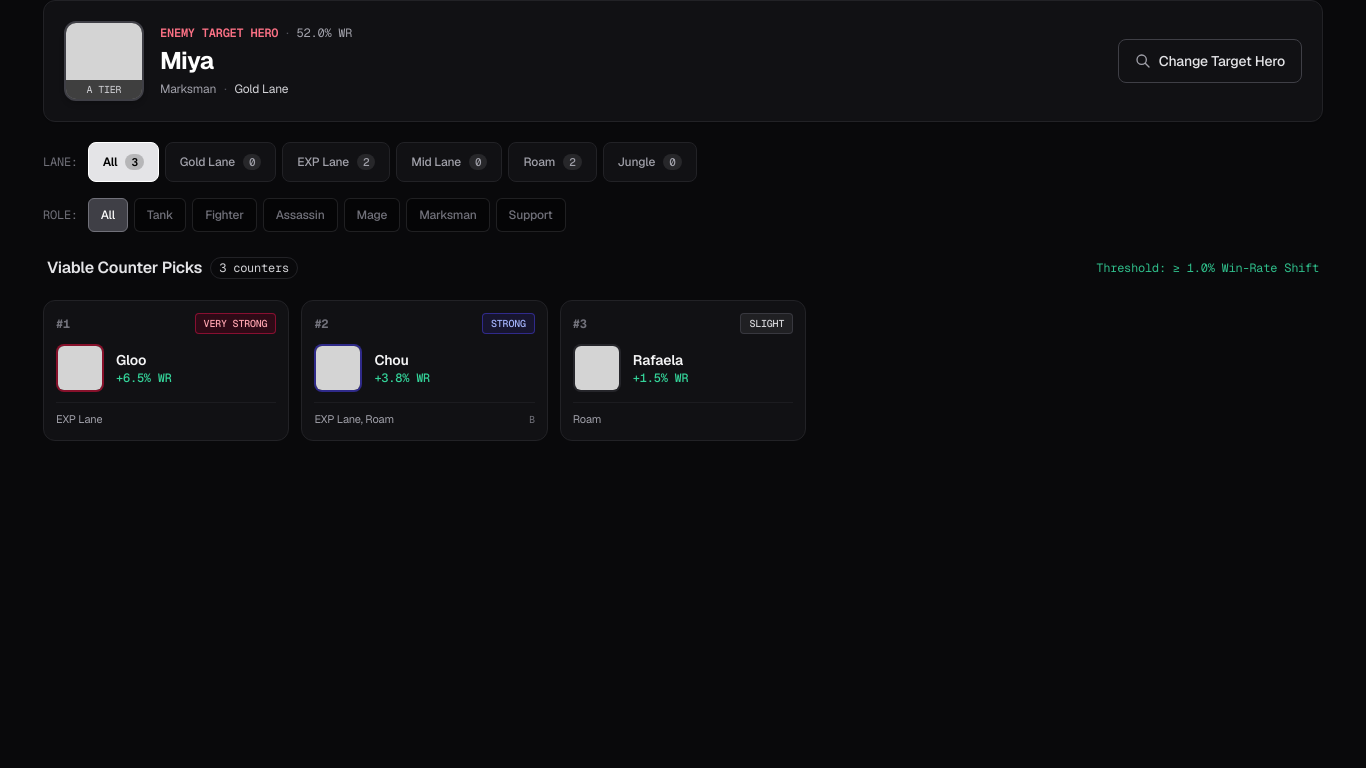
CounterView Component › displays empty state when no counters match lane filter and allows resetting
// Click "Mid Lane" (none of Miya's counters are Mid Lane)
Click the button with test id "counter-lane-tab-mid-lane": {"x": 449, "y": 162} [396,142,502,182]
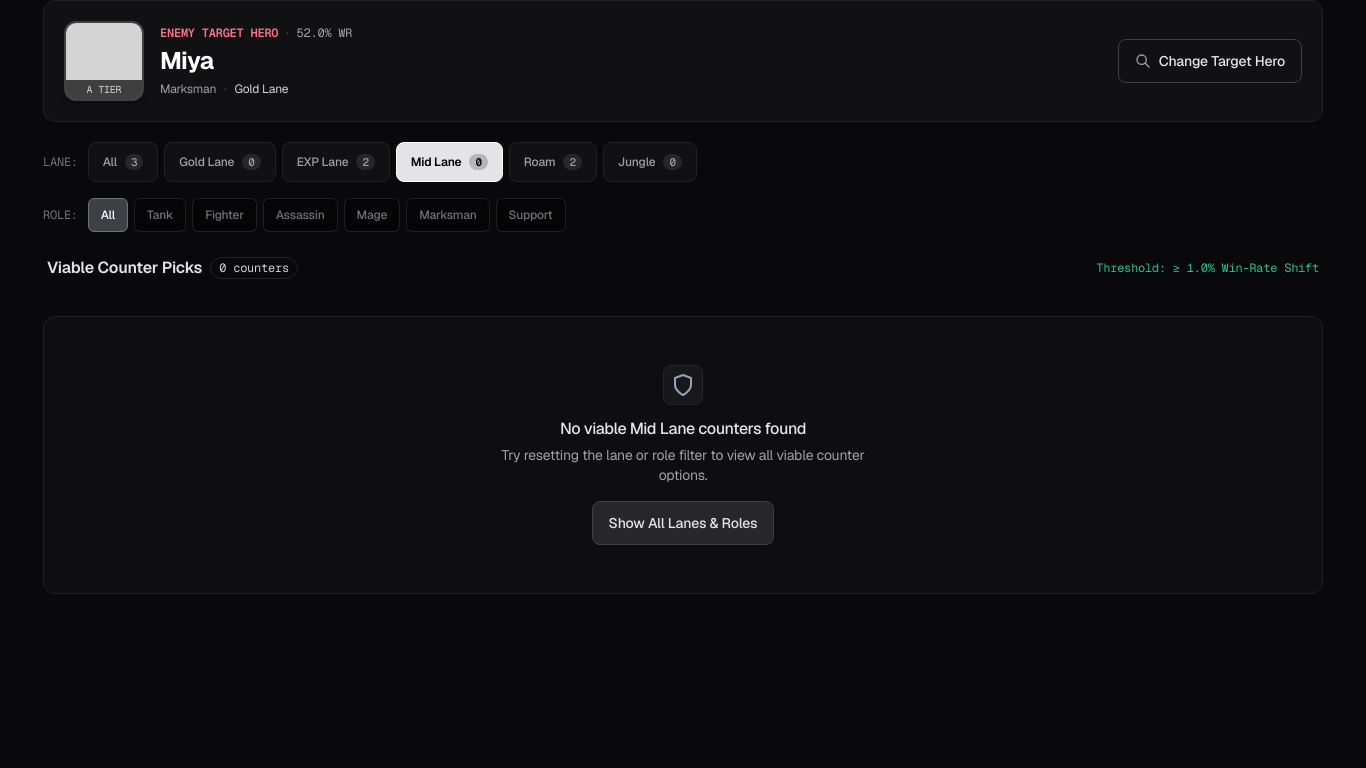
Check: the element with test id "counters-empty-state" is shown, box [43,316,1323,594]
// Click reset button
Click the button "Show All Lanes & Roles": {"x": 683, "y": 523} [592,501,774,545]
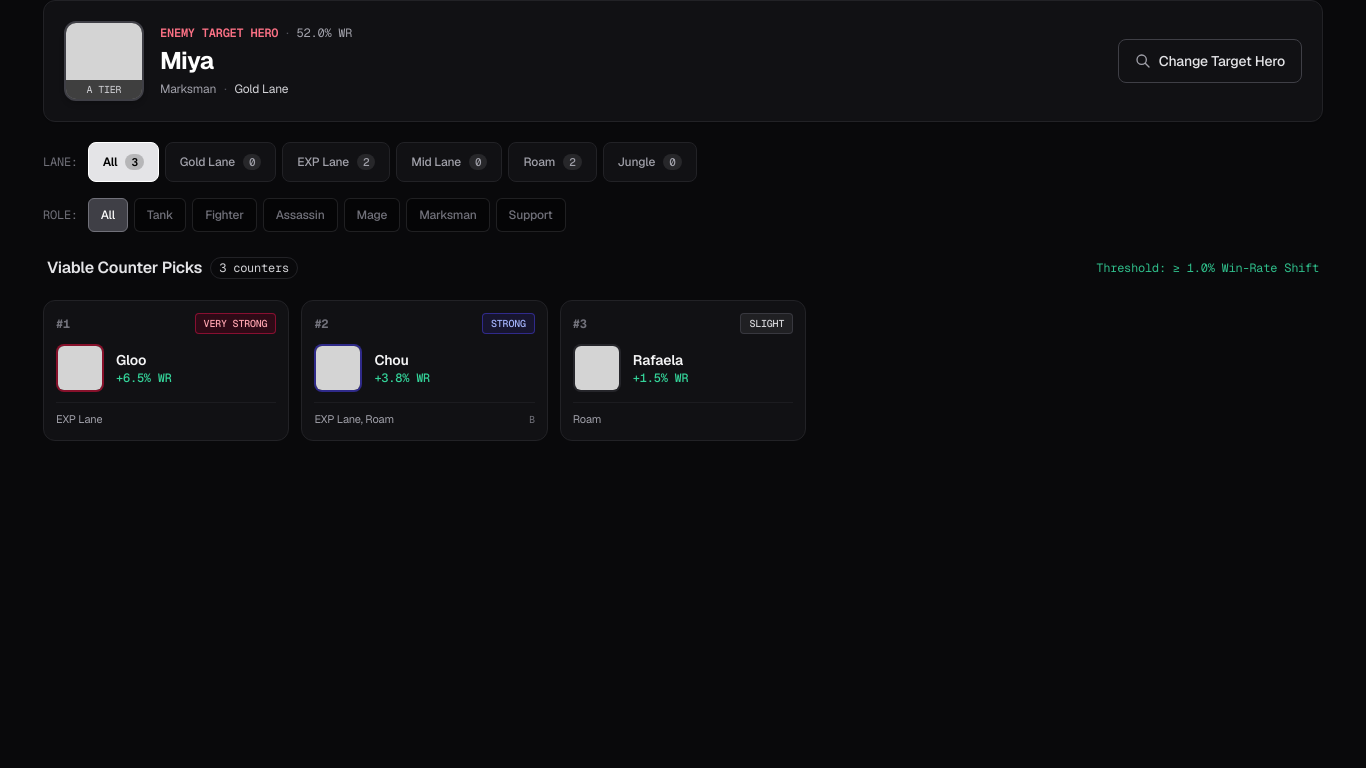
Check: the text "Gloo" is shown, box [116,351,146,369]
Check: the text "Chou" is shown, box [374,351,409,369]
